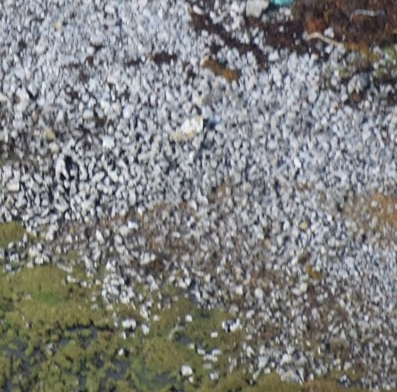white_in_green: (161, 103, 217, 153)
